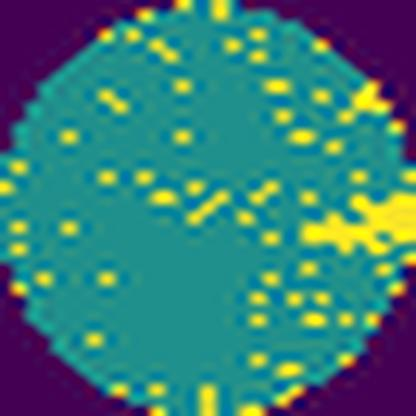Loc: (301, 187, 416, 258)
